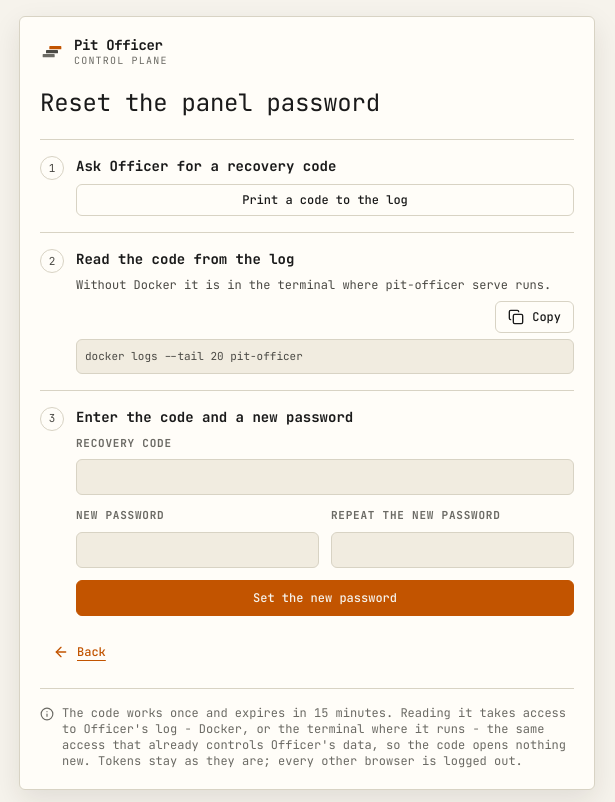
it: PasswordRecovery › setting the new password › marks the code wrong and clears the passwords
The width and height of the screenshot is (615, 802).
Type "7KQ4-MZ2P-X9RD" into the field labelled "Recovery code" at (325, 477), box [76,459,574,495]
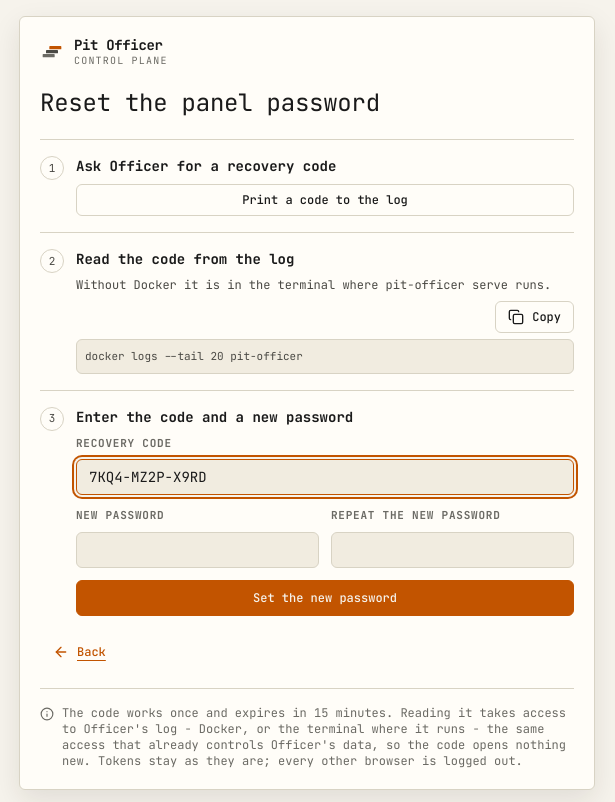
Click the password field labelled "New password" at (198, 550), box [76,532,319,568]
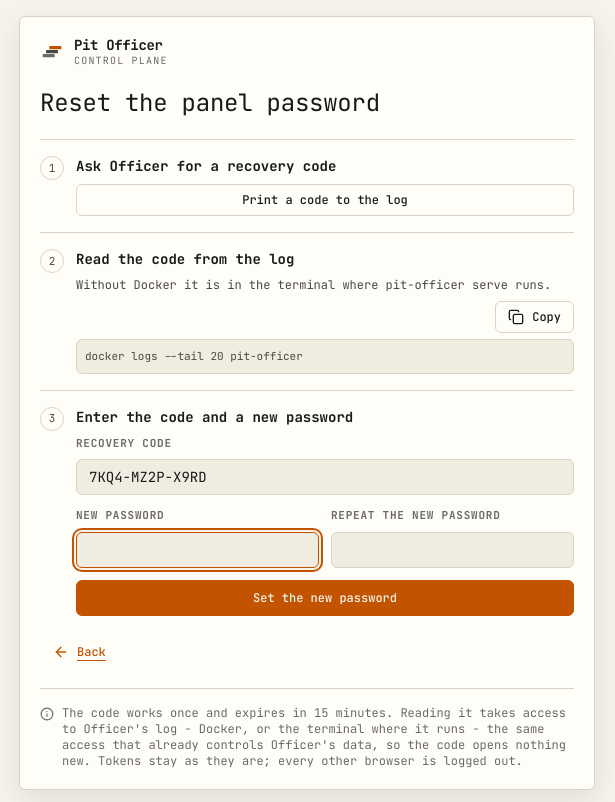
Type keys "a-new-panel-password"
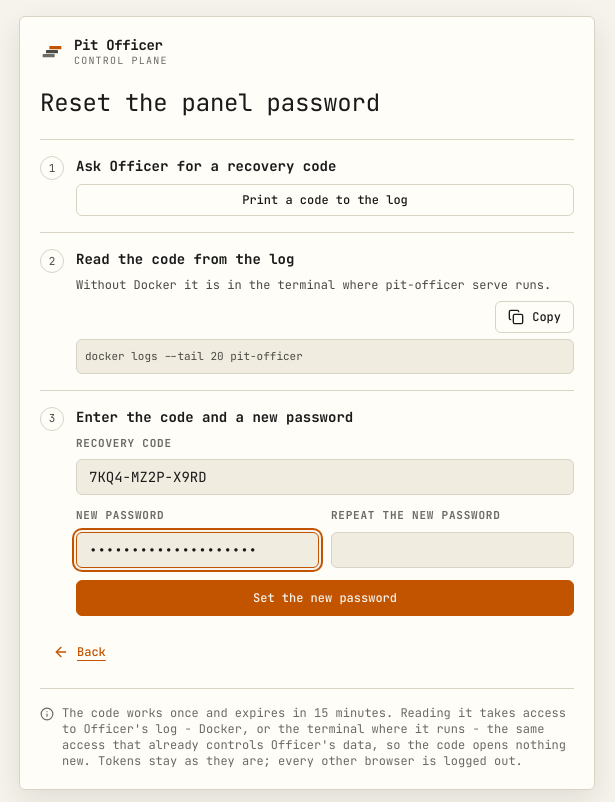
Click the password field labelled "Repeat the new password" at (452, 550), box [331,532,574,568]
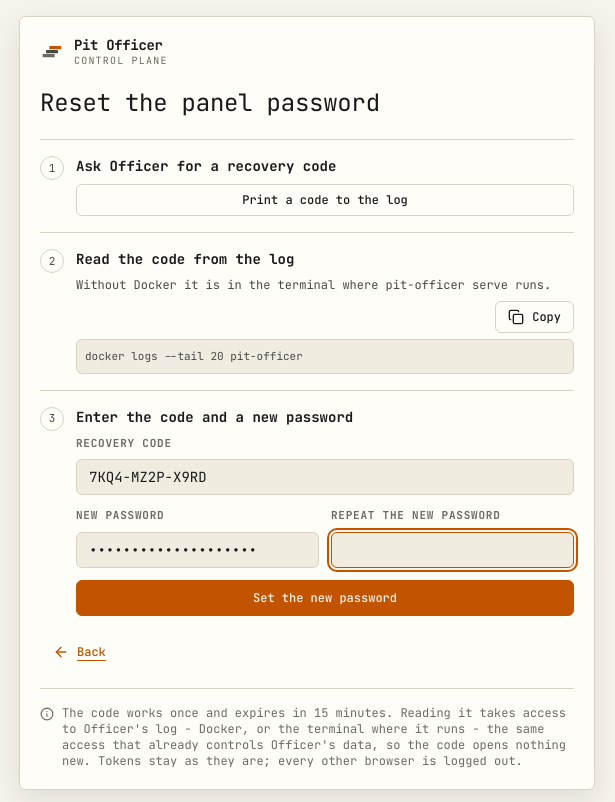
Type keys "a-new-panel-password"
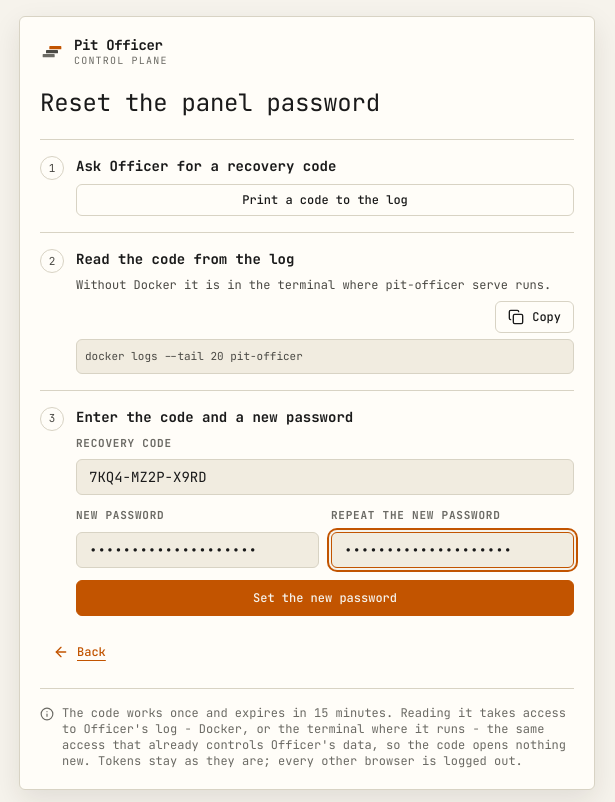
Click the button "Set the new password" at (325, 598), box [76,580,574,616]
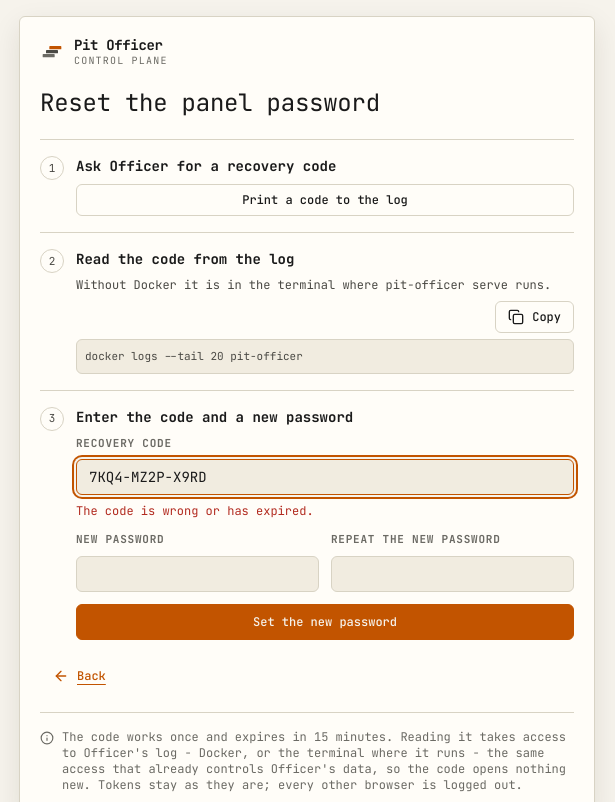
Expected: the text "The code is wrong or has expired." is shown, [76,503,314,519]
Expected: the password field labelled "New password" is empty, [76,556,319,592]
Expected: the password field labelled "Repeat the new password" is empty, [331,556,574,592]
